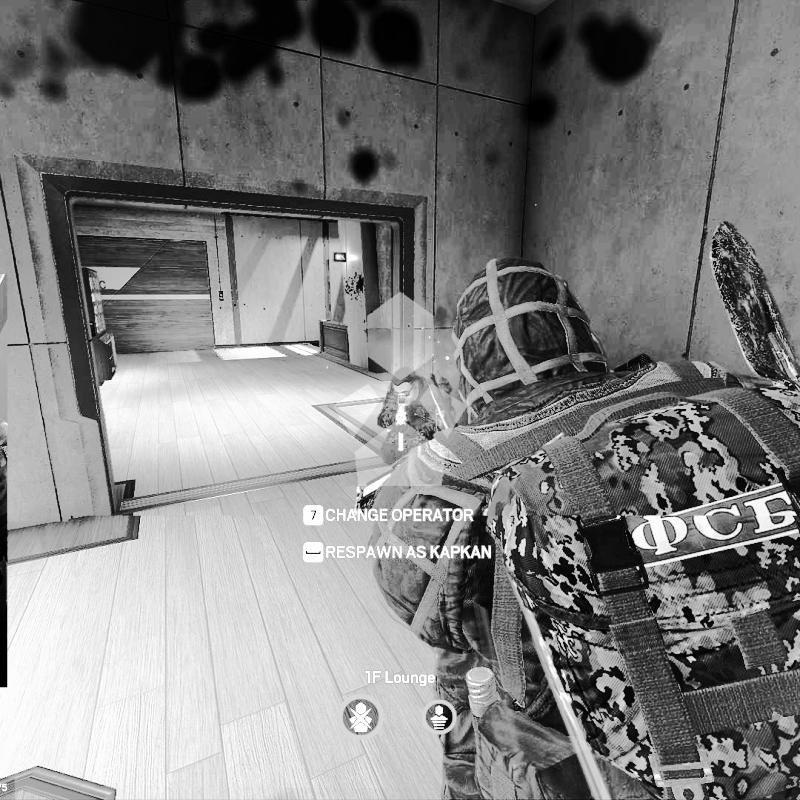Character: (361, 215, 799, 800), (376, 364, 457, 468)
Head: (444, 247, 607, 416), (389, 365, 422, 406)
